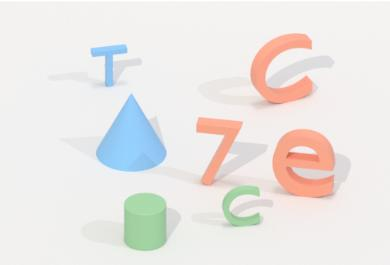0-KhoiTru: (121, 189, 171, 255)
0-TamGiac: (91, 89, 174, 175)
7: (192, 113, 245, 187)
C: (248, 29, 318, 107), (220, 182, 265, 230)
T: (88, 39, 131, 92)
e: (270, 127, 340, 201)
